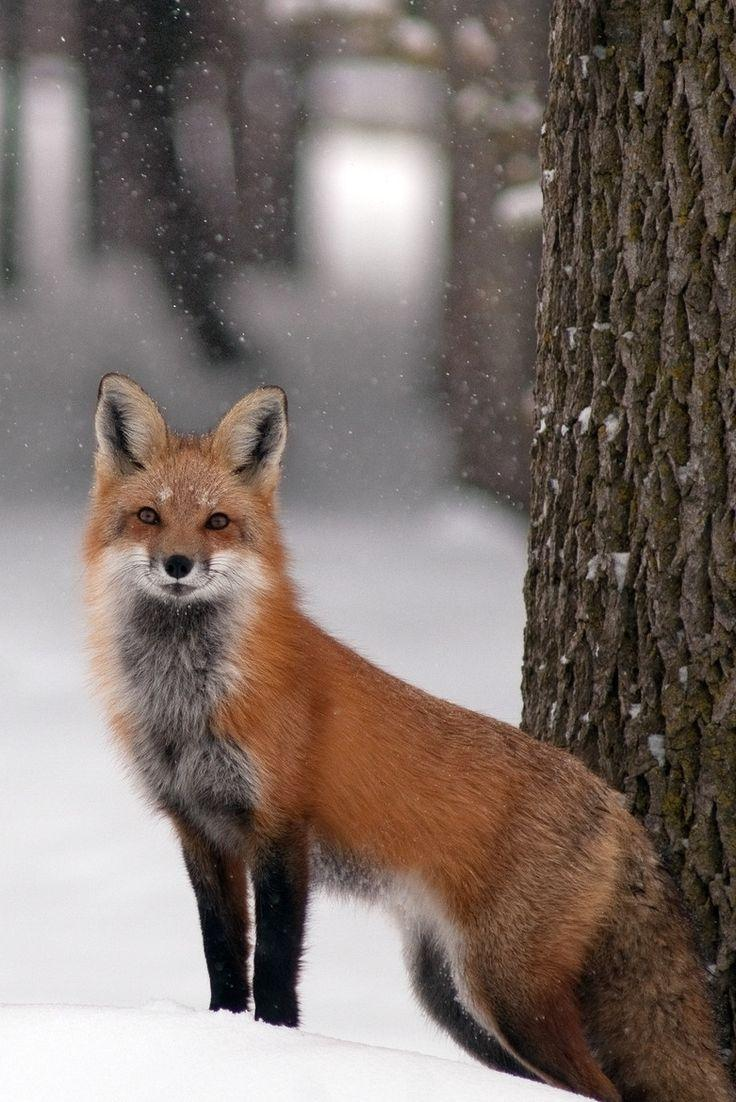fox: (85, 372, 695, 1102)
